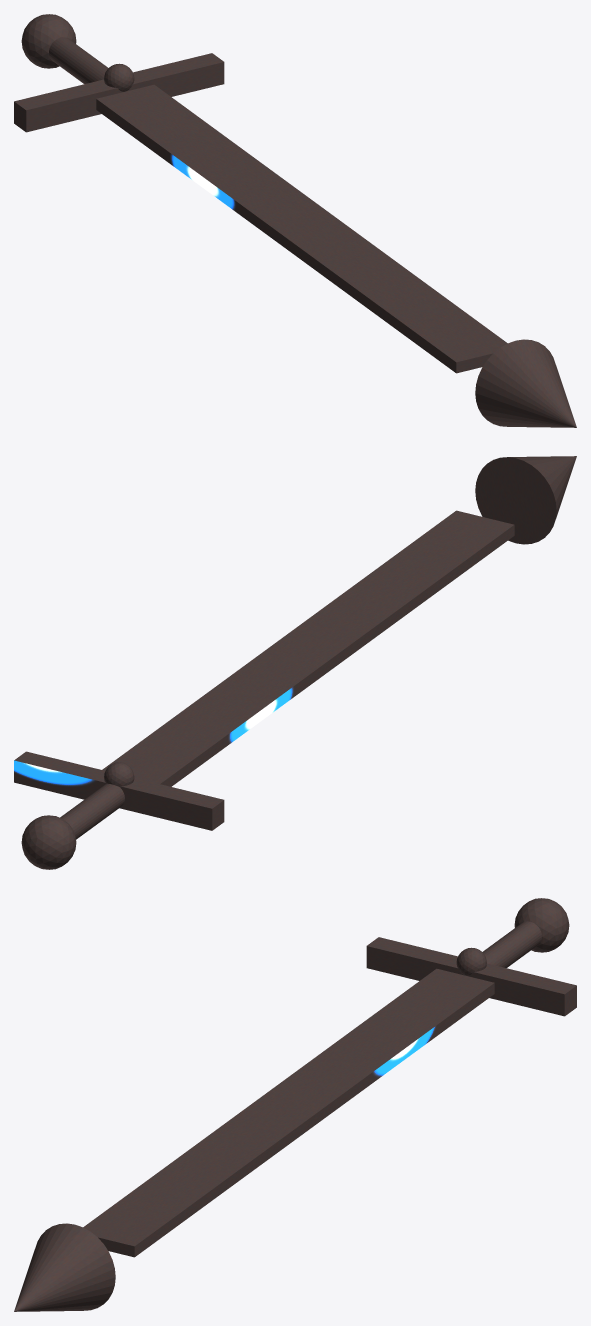
File: sample_sword.glb
3 views of the same model, one above another, from view 1: azimuth 30°, elevation 25°; view 2: azimuth 150°, elevation 25°; view 3: azimuth 330°, elevation 25° (orthographic).
Parts seen in each view (by area): view 1: geometry_0; view 2: geometry_0; view 3: geometry_0.
Boxes of the visible parts, <box> form: geometry_0: <box>14,14,576,427</box>; geometry_0: <box>14,456,576,869</box>; geometry_0: <box>14,898,576,1311</box>.
Size of the model in its own units: 0.75 by 0.308 by 3.55.
Materials: 1 (1 with a texture image).
